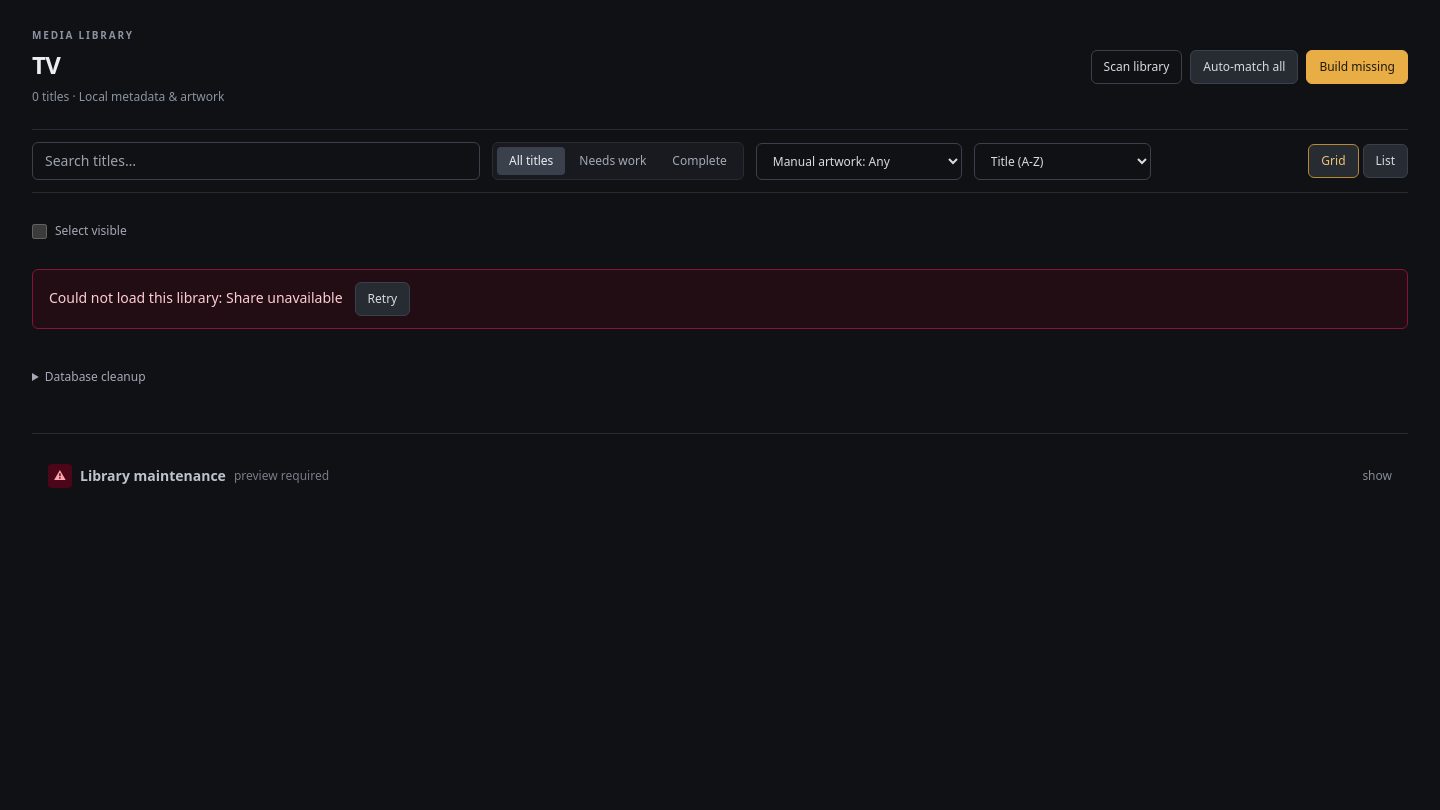
Test: library presents fetch failure and retries
Expected: the message shows "Share unavailable", [226,288,343,307]
What coordinates should you click on to do the following:
click the button "Retry"
I would click on:
 (382, 299)
Its box is [355,282,410,316].
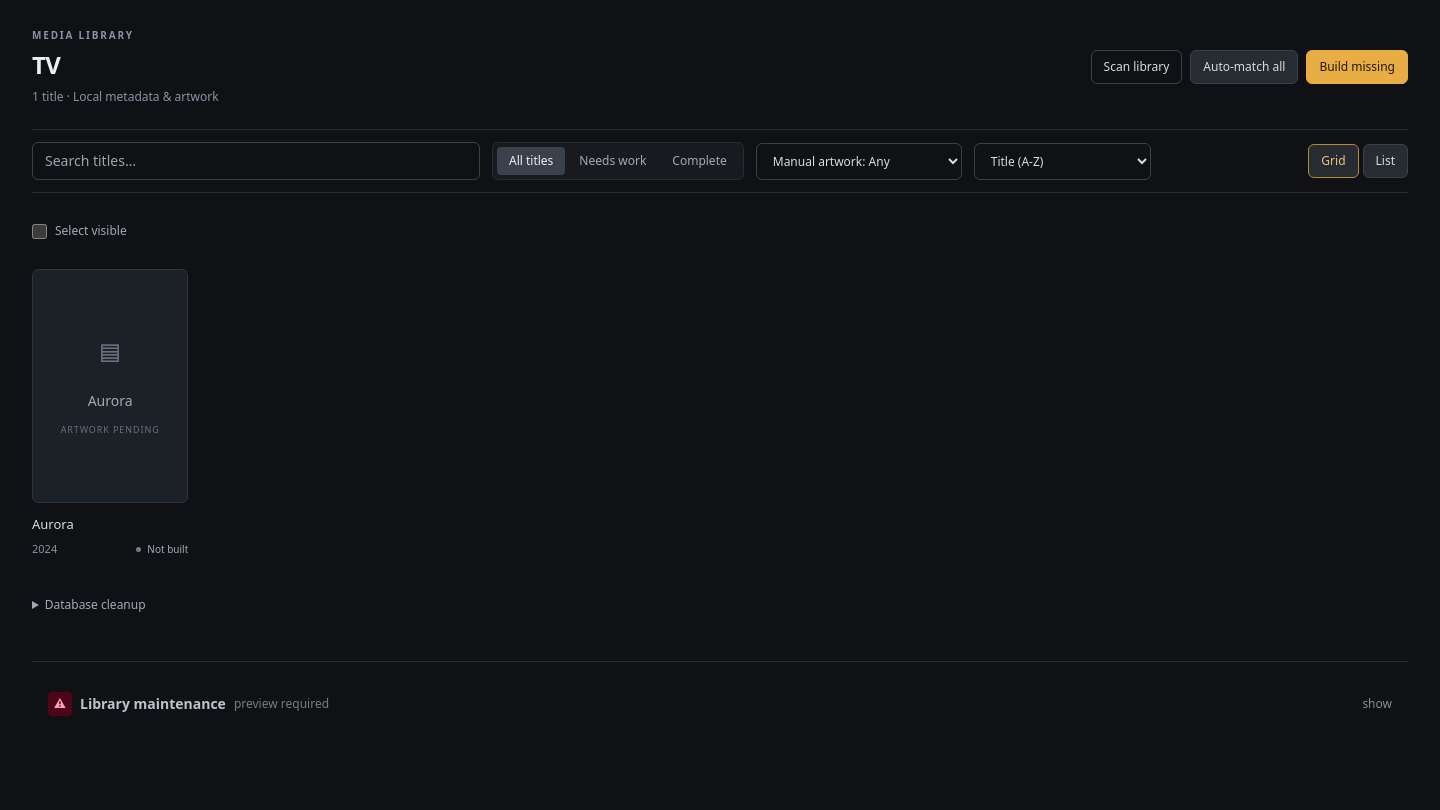
Expected: the button with aria-label "Open Aurora" is shown, [32,269,188,557]
